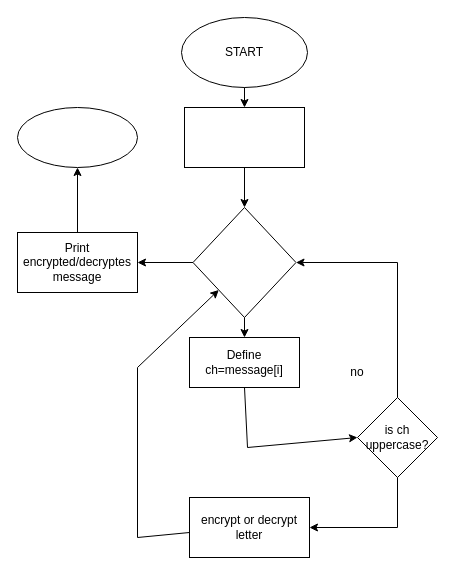
Some shapes in this 455 by 575 pixel diagram are drawn without their labels. Each missing label, with the centre of its shape:
"END" belongs at (77,137).
"Get message & key" belongs at (244,137).
"is int i larger than length of message?" belongs at (244,262).
